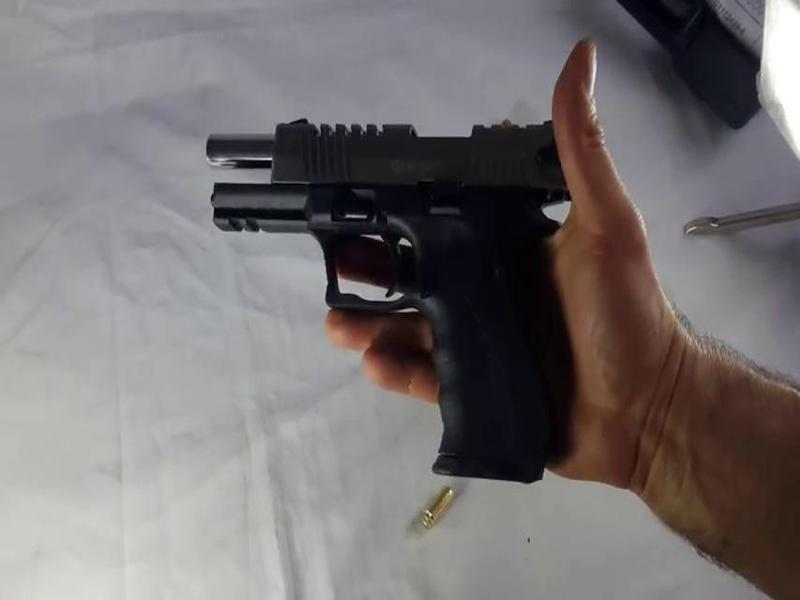Pistola: (187, 93, 617, 479)
